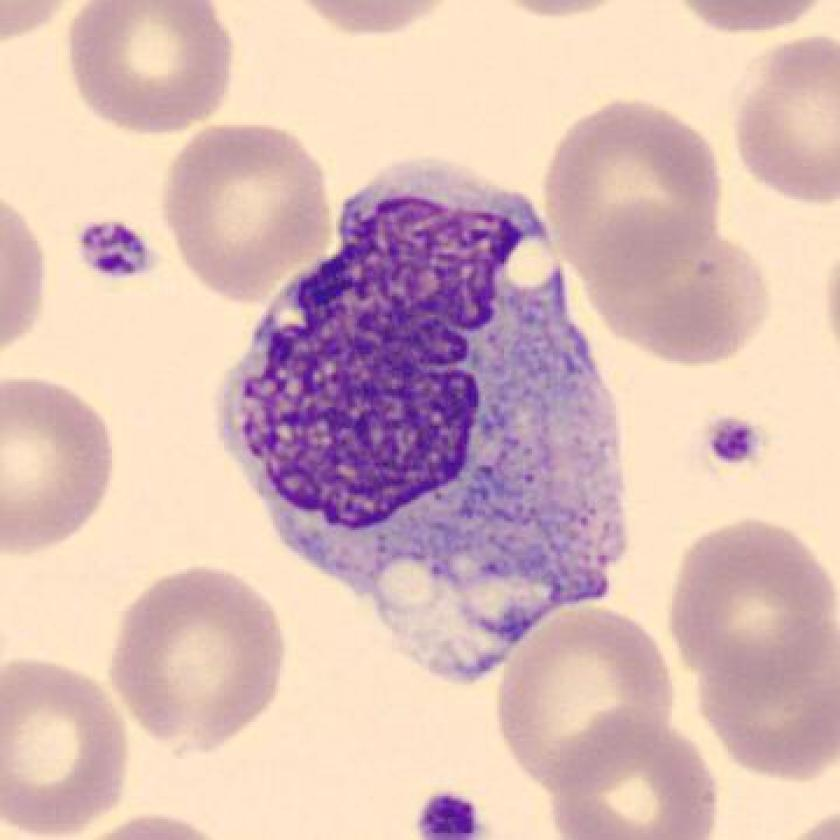monocyte: (192, 133, 659, 709)
